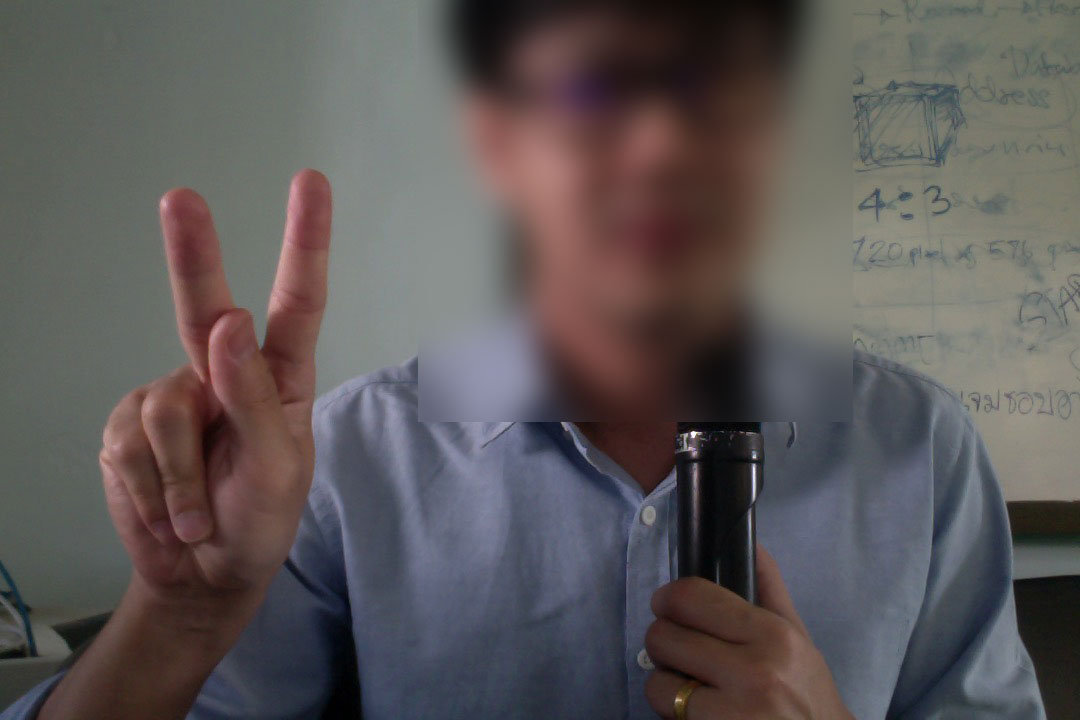ko: (88, 160, 342, 603)
